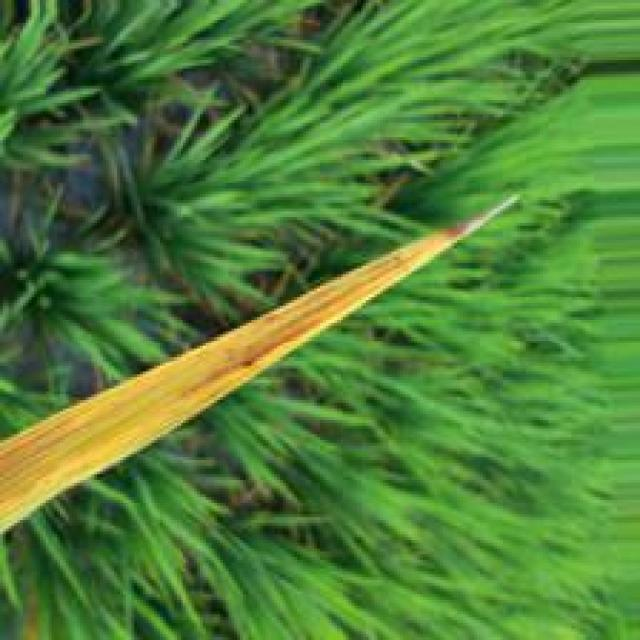Bacterial_Leaf_Blight: (179, 192, 528, 413)
